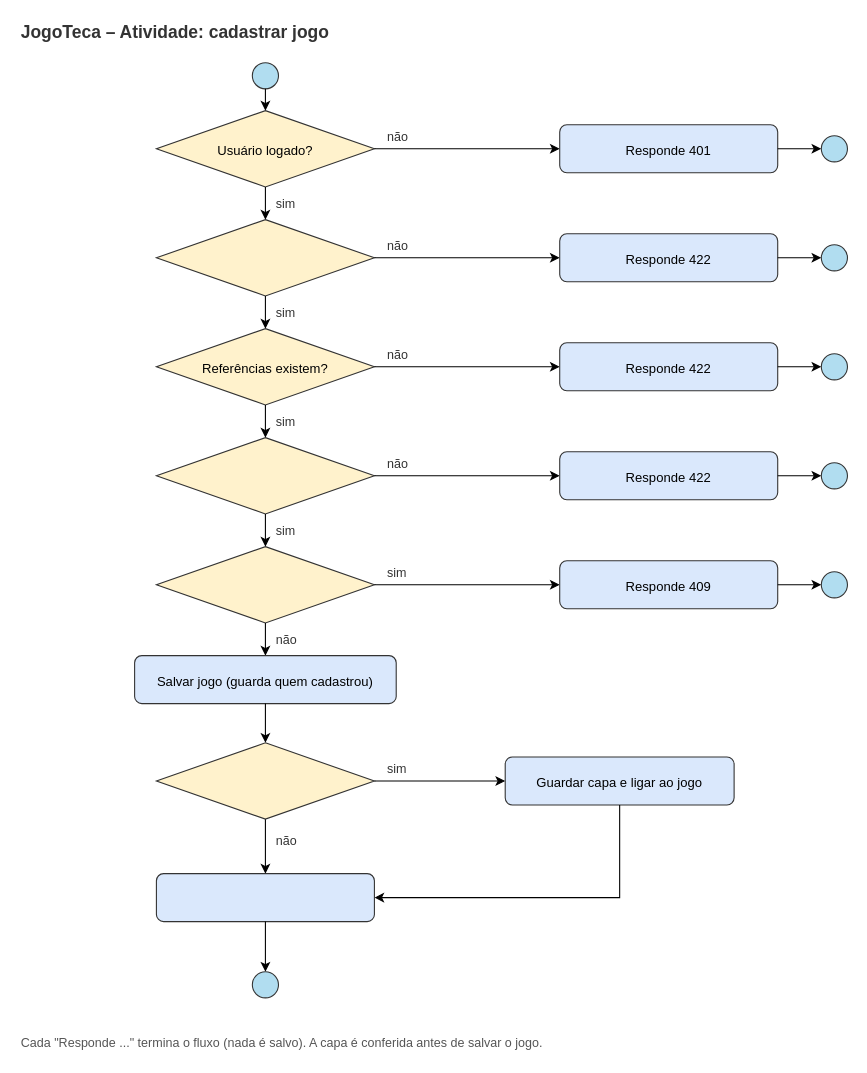
Image size: 867x1073. Some labels were removed from this diagram. Each missing label, with the box of its shape:
Capa válida?: (155, 437, 374, 514)
Dados válidos?: (155, 219, 374, 296)
Enviou capa?: (155, 742, 374, 819)
Nome já existe (ativos)?: (155, 546, 374, 623)
Responde 201 (jogo criado): (155, 873, 374, 922)
